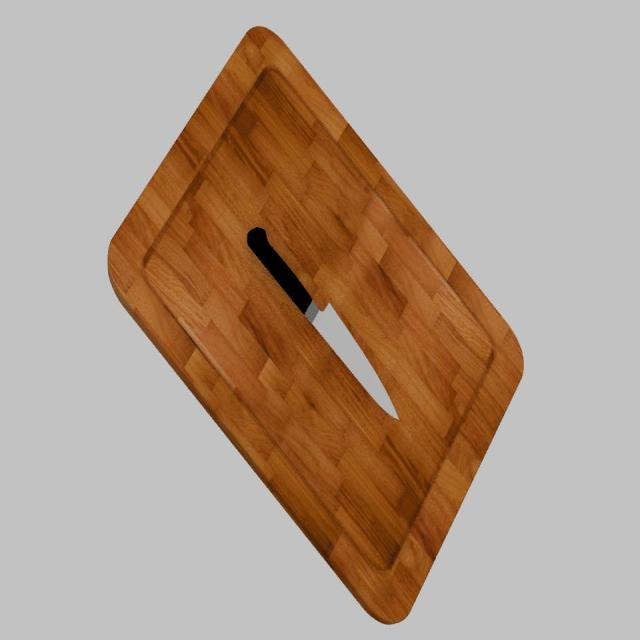knife: (246, 227, 312, 315)
